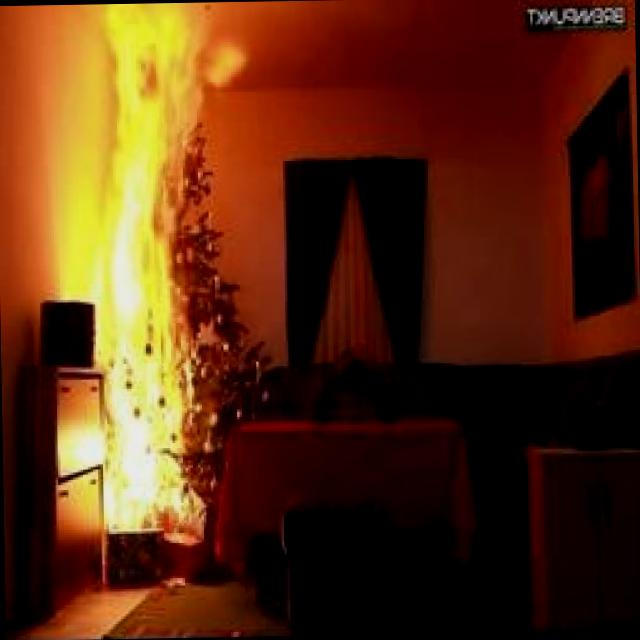fire: (0, 4, 282, 554)
